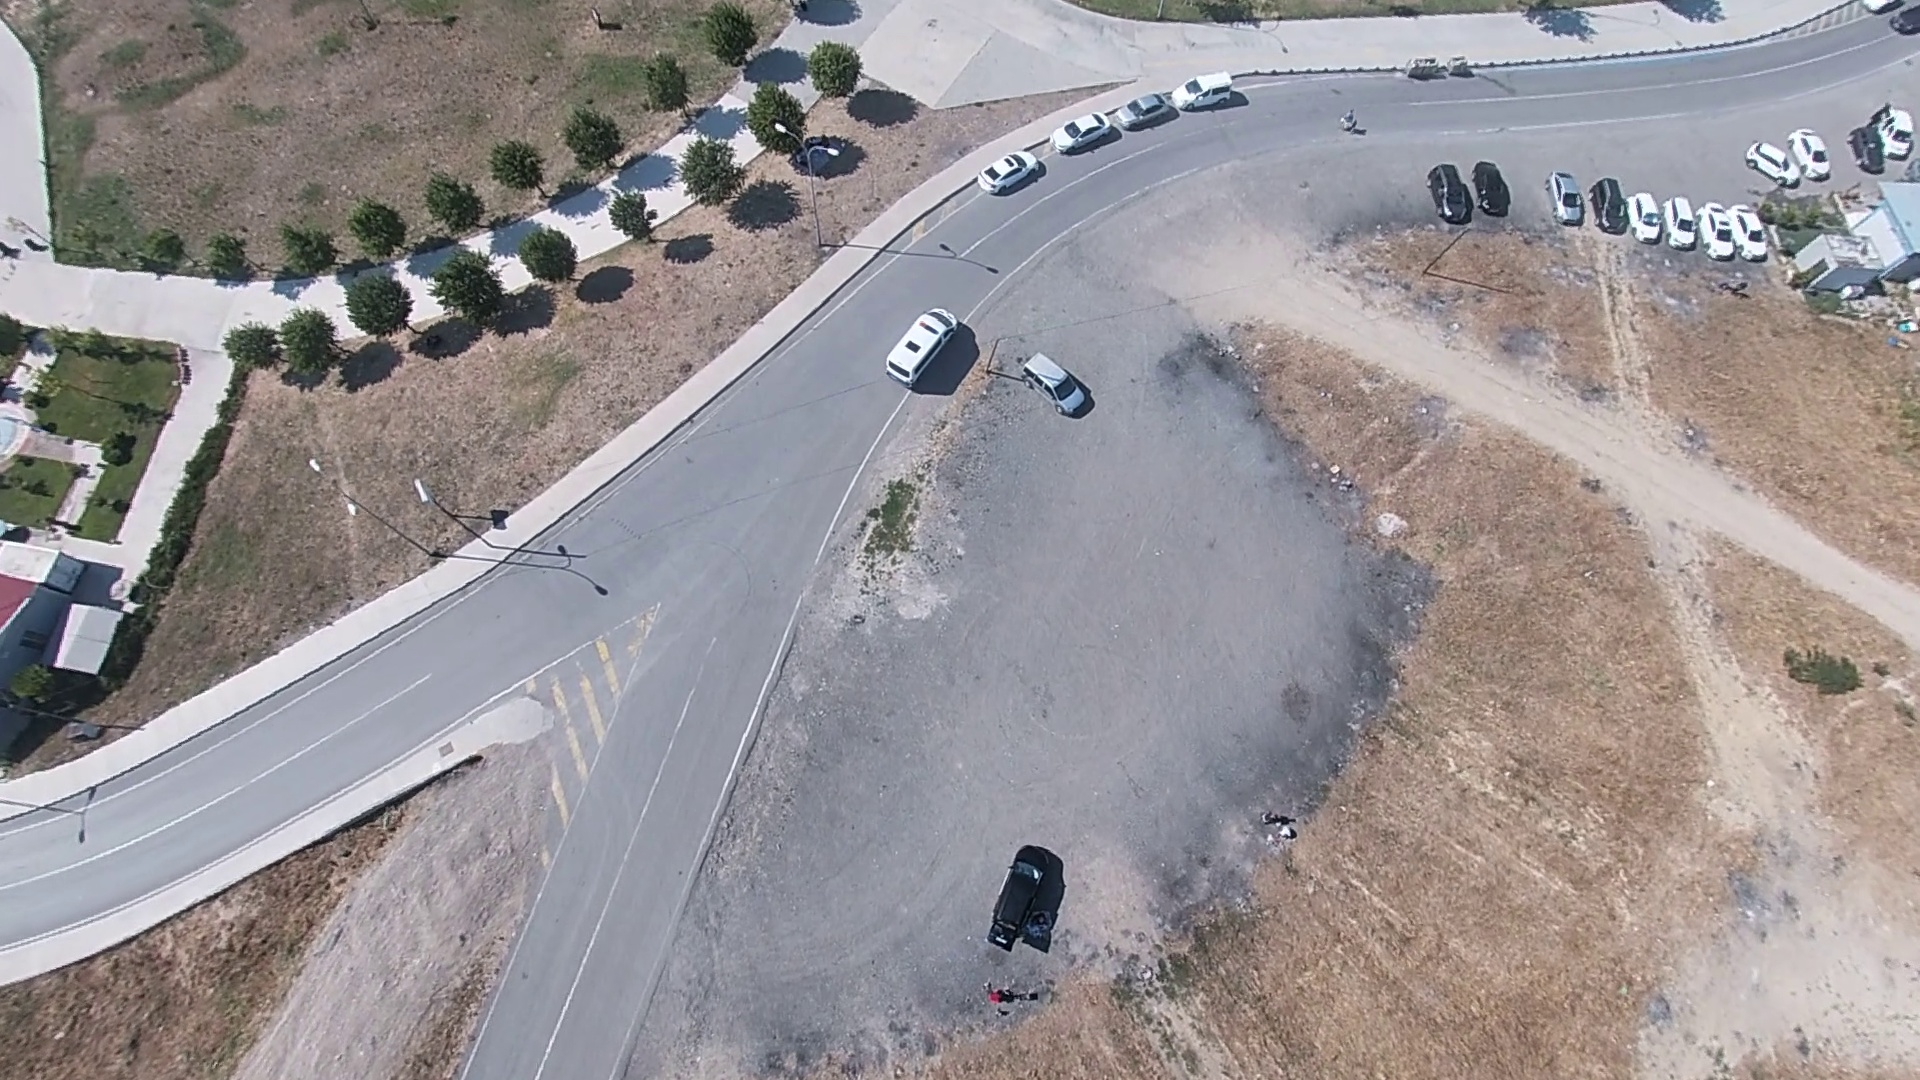arac: (889, 299, 965, 385), (1022, 350, 1092, 415), (983, 148, 1047, 196), (1749, 133, 1804, 184)
insan: (792, 137, 844, 172)
